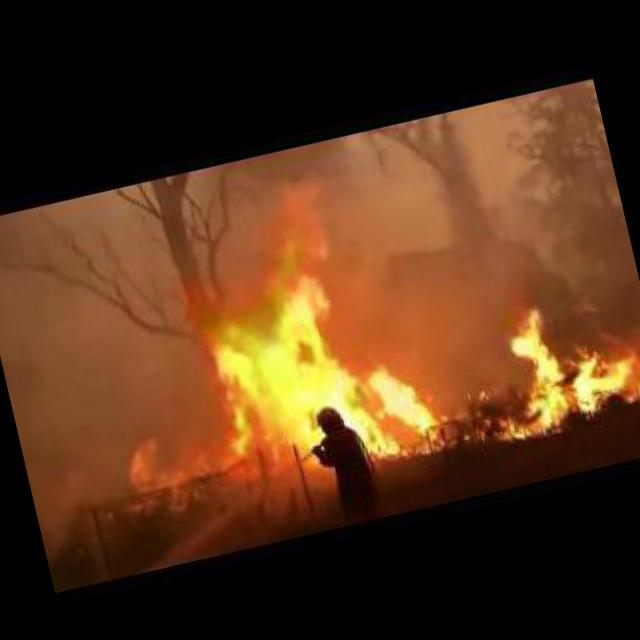fire: (159, 154, 449, 498), (482, 283, 640, 441), (119, 418, 215, 494)
